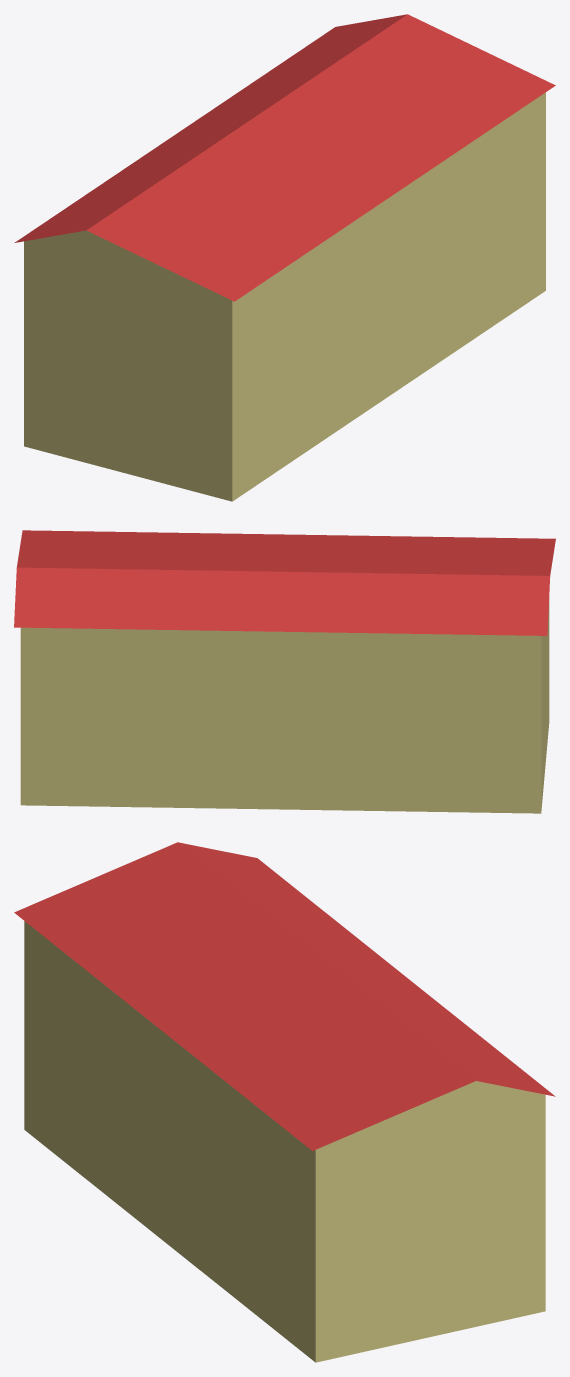
3 views of the same model, one above another, from view 1: azimuth 30°, elevation 25°; view 2: azimuth 150°, elevation 25°; view 3: azimuth 270°, elevation 25° (orthographic). The views are drawn at different scales.
Size of the model in its own units: 22.68 by 17.73 by 9.01.
